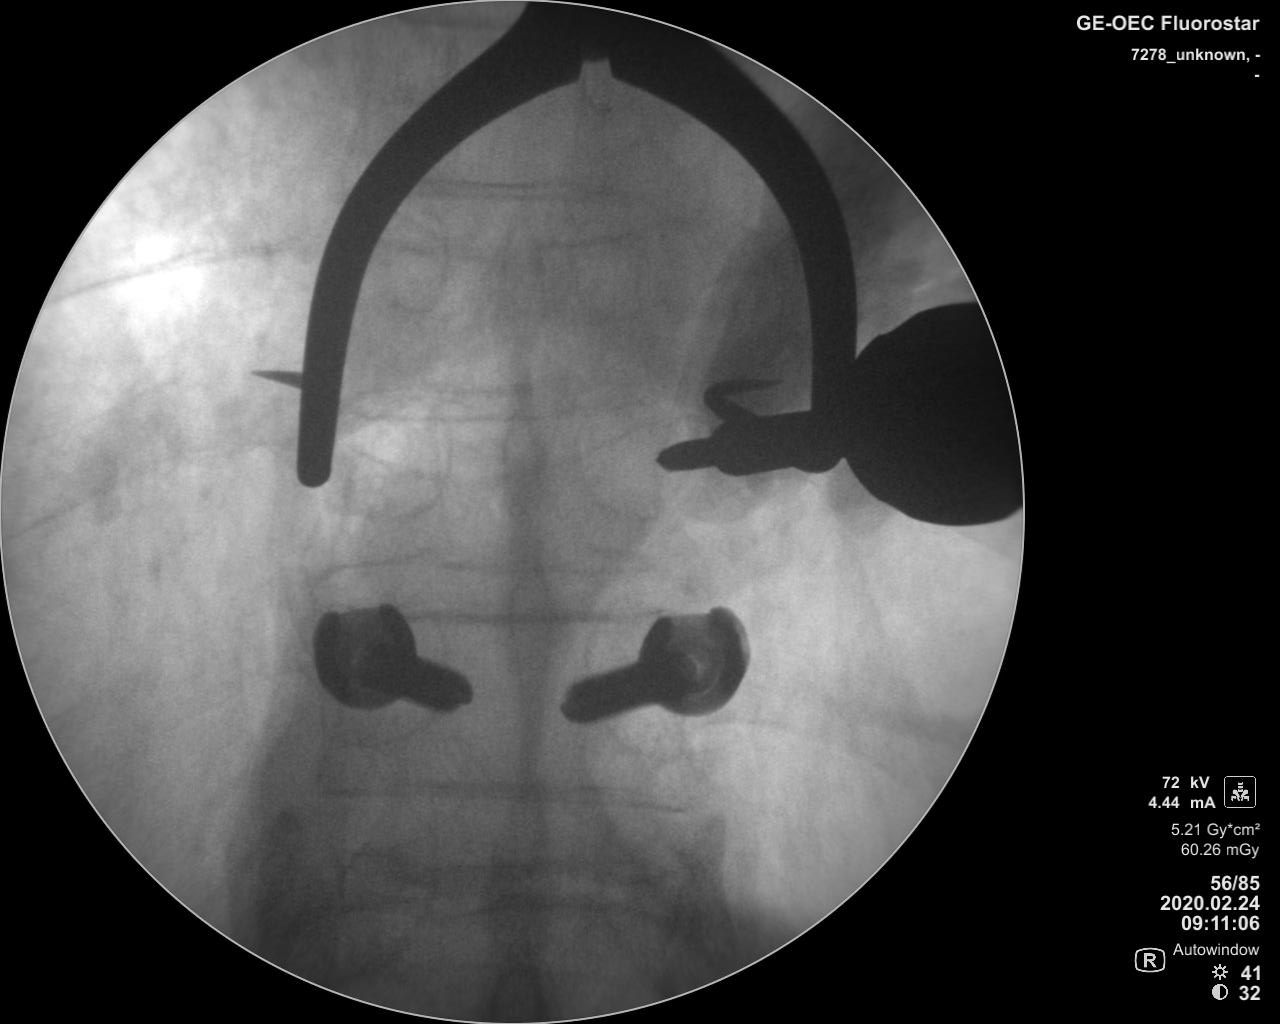eyes: (343, 391, 448, 527), (581, 390, 684, 522), (378, 209, 452, 316), (567, 215, 643, 313)
line: (333, 778, 683, 818), (335, 376, 648, 420), (427, 173, 632, 206), (382, 237, 652, 260), (414, 606, 654, 631), (417, 865, 619, 880)
nose: (488, 779, 549, 952), (485, 215, 552, 370), (502, 558, 557, 716), (492, 385, 549, 533)
